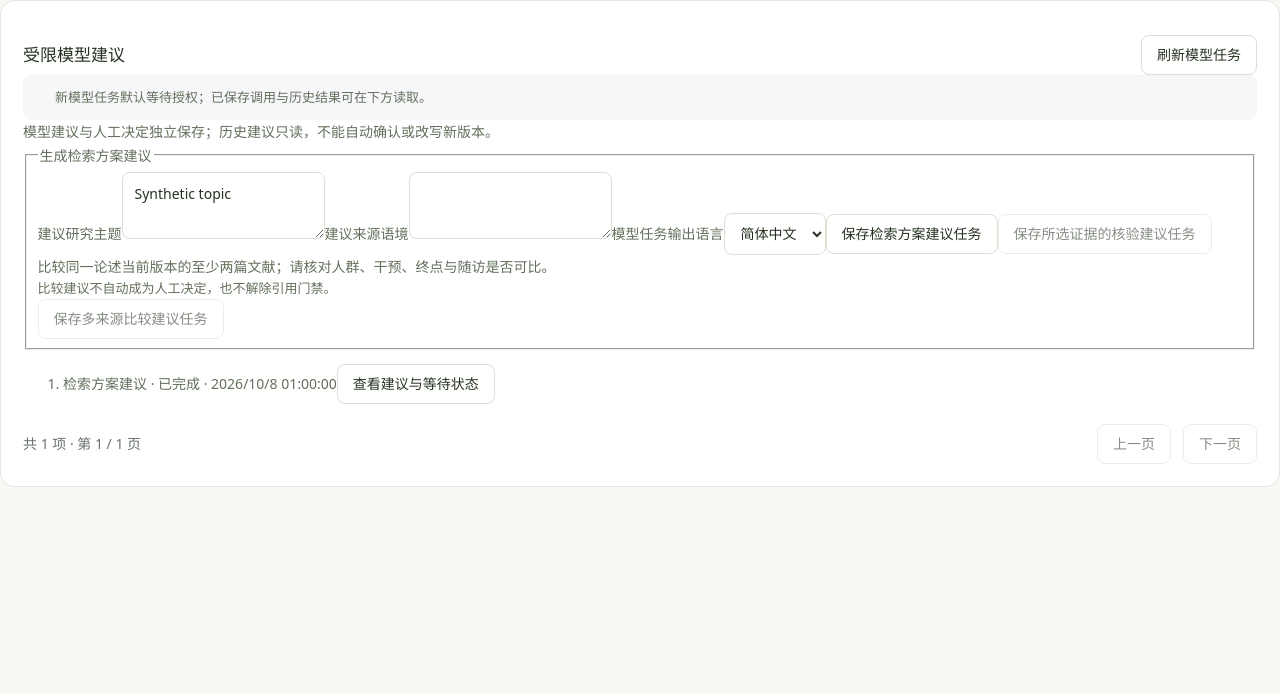
Test: shows saved suggestions with readable revision scope and no internal digest in zh-CN
Click the button "查看建议与等待状态" at [416, 384], box [337, 364, 495, 404]
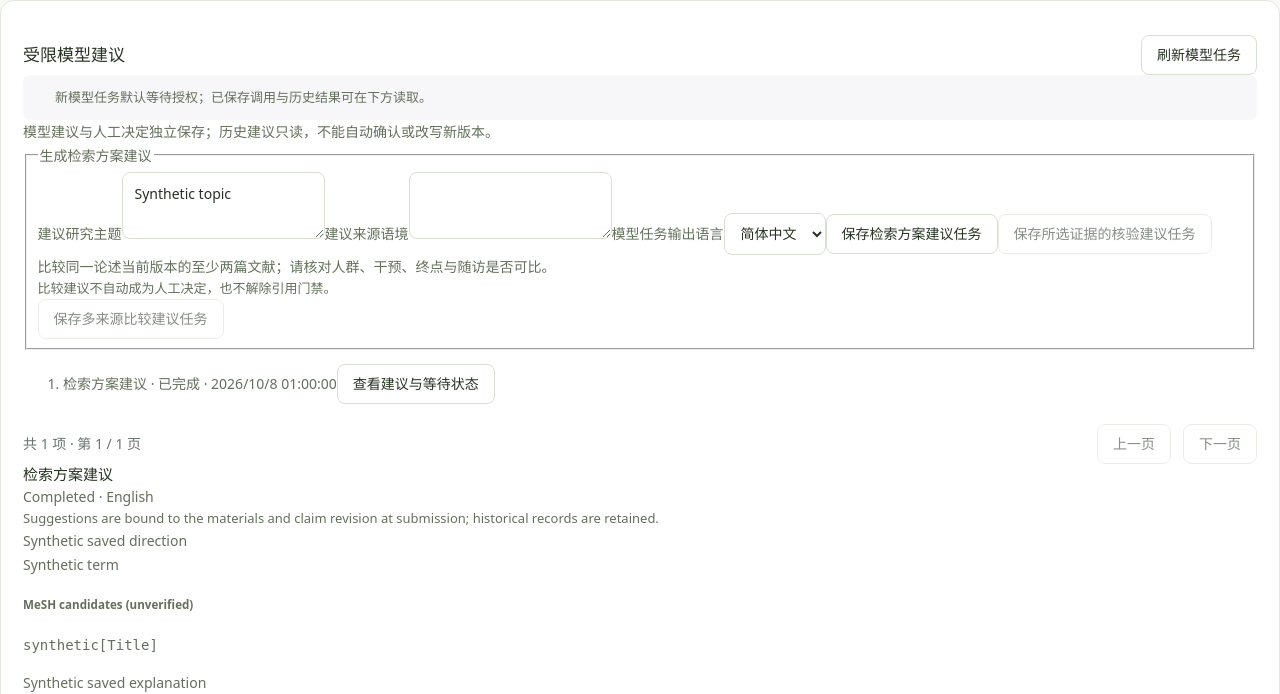
Expected: the text "Synthetic saved direction" is shown, [23, 531, 187, 550]
Expected: the text "Suggestions are bound to the materials and claim revision at submission; historical records are retained." is shown, [23, 509, 659, 527]
Expected: the text "Synthetic saved explanation" is shown, [23, 673, 206, 692]
